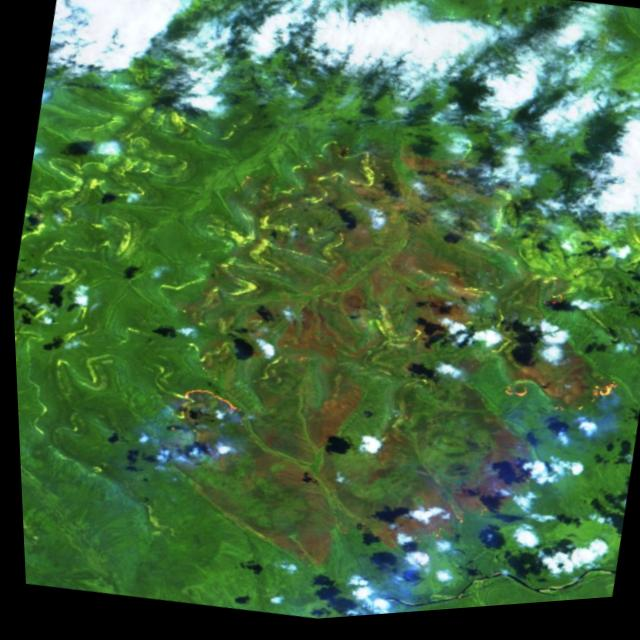fire: (486, 345, 623, 444), (149, 368, 257, 460), (529, 274, 578, 326)
